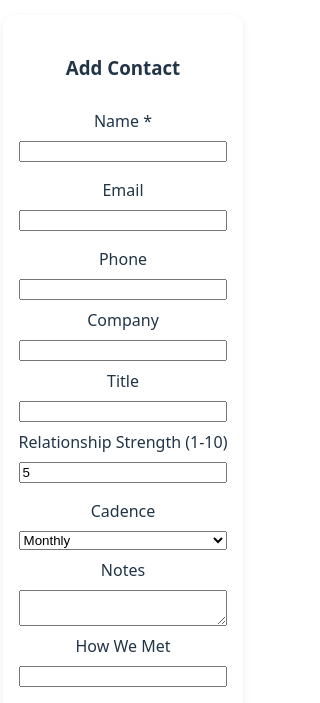
Scenario: AddContactForm › shows validation error for invalid email
Type "Test User" into the field labelled "Name *".
click(123, 151); type("Test User")  # box x1=19 y1=140 x2=228 y2=162
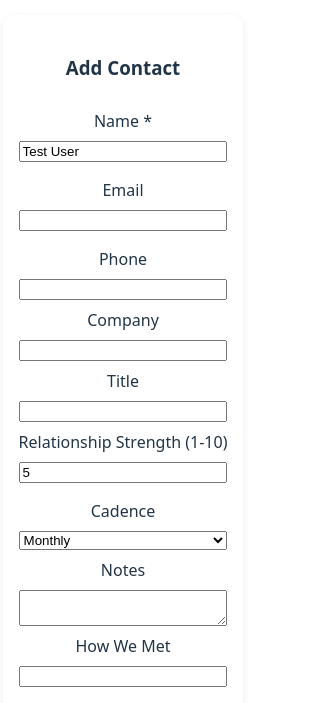
Type "not-an-email" into the field labelled "Email".
click(123, 220); type("not-an-email")  # box x1=19 y1=210 x2=228 y2=230
(page scrolled)
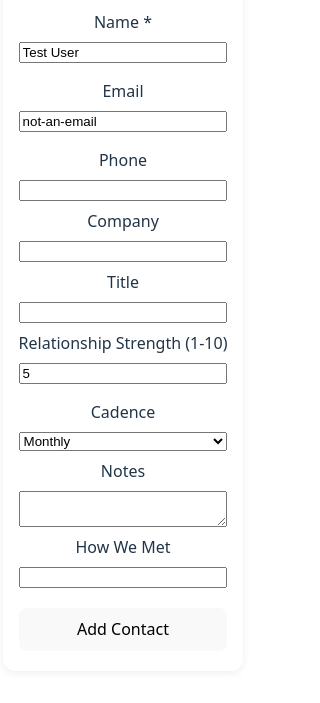
Click the button "Add Contact".
click(123, 629)  # box x1=19 y1=608 x2=228 y2=651
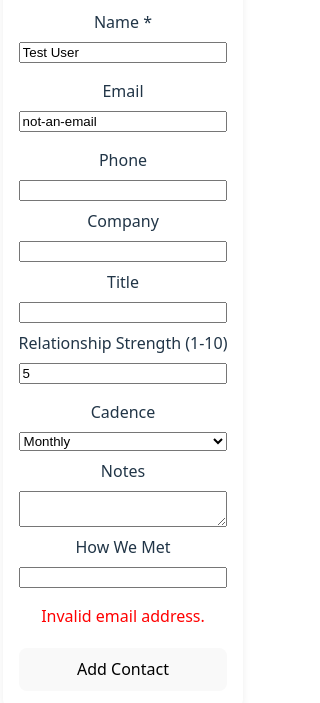
Expected: the text "Invalid email address." is shown, x1=41 y1=604 x2=205 y2=626
